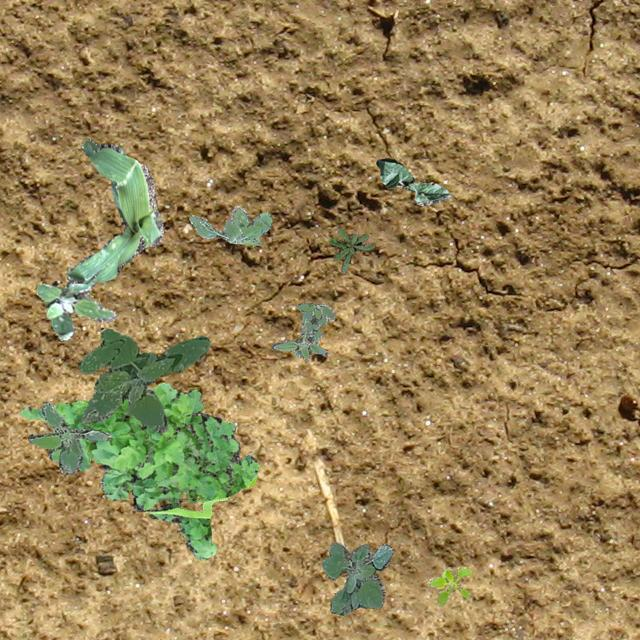crop: (66, 138, 162, 282), (376, 158, 450, 205)
weed: (19, 382, 258, 560), (78, 328, 210, 432), (26, 401, 110, 474), (320, 542, 392, 614), (36, 278, 114, 339), (270, 302, 334, 359), (188, 203, 272, 244), (328, 228, 373, 272), (428, 566, 470, 606)
